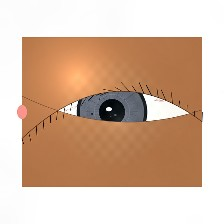pinguecula_lesion: (15, 96, 65, 136)
